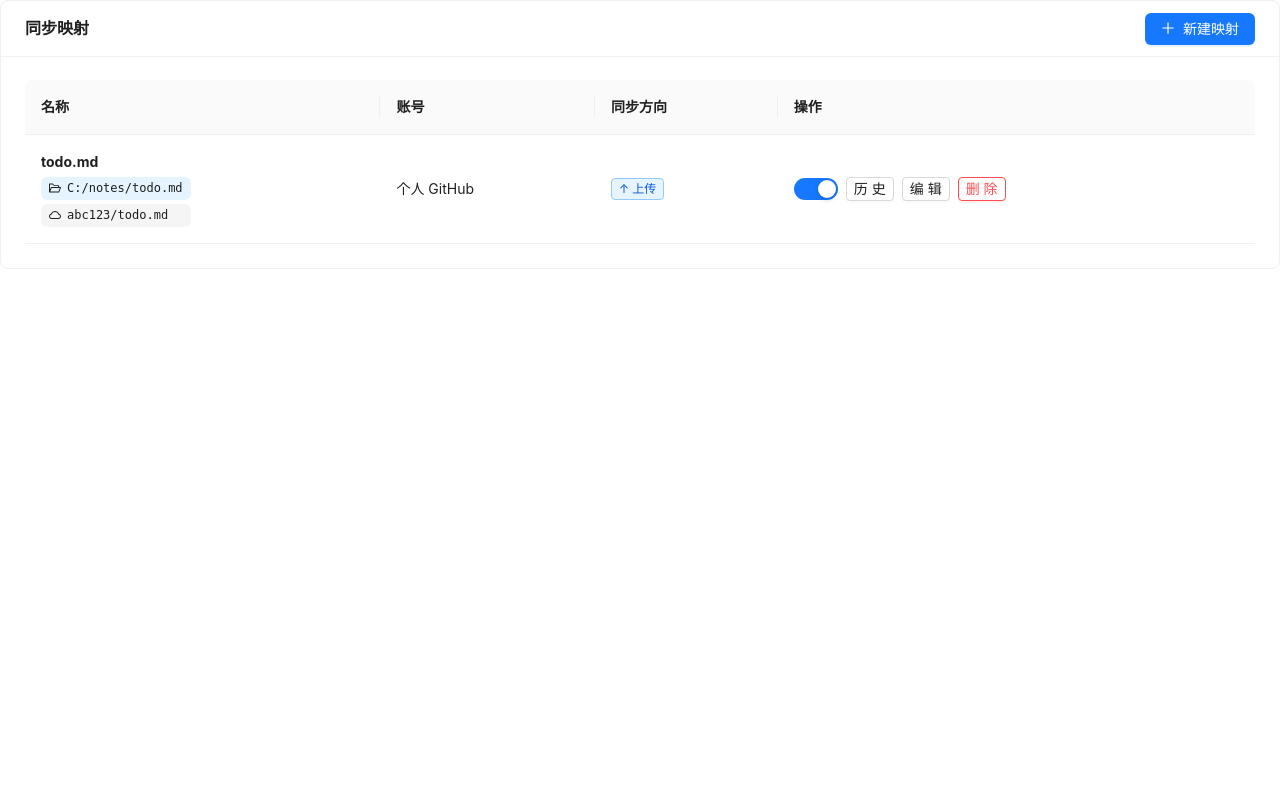
Mappings page › 选择账号后加载 gist 下拉，选项显示描述
Click the button "新建映射" at point(1200, 28), box [1145, 12, 1255, 44]
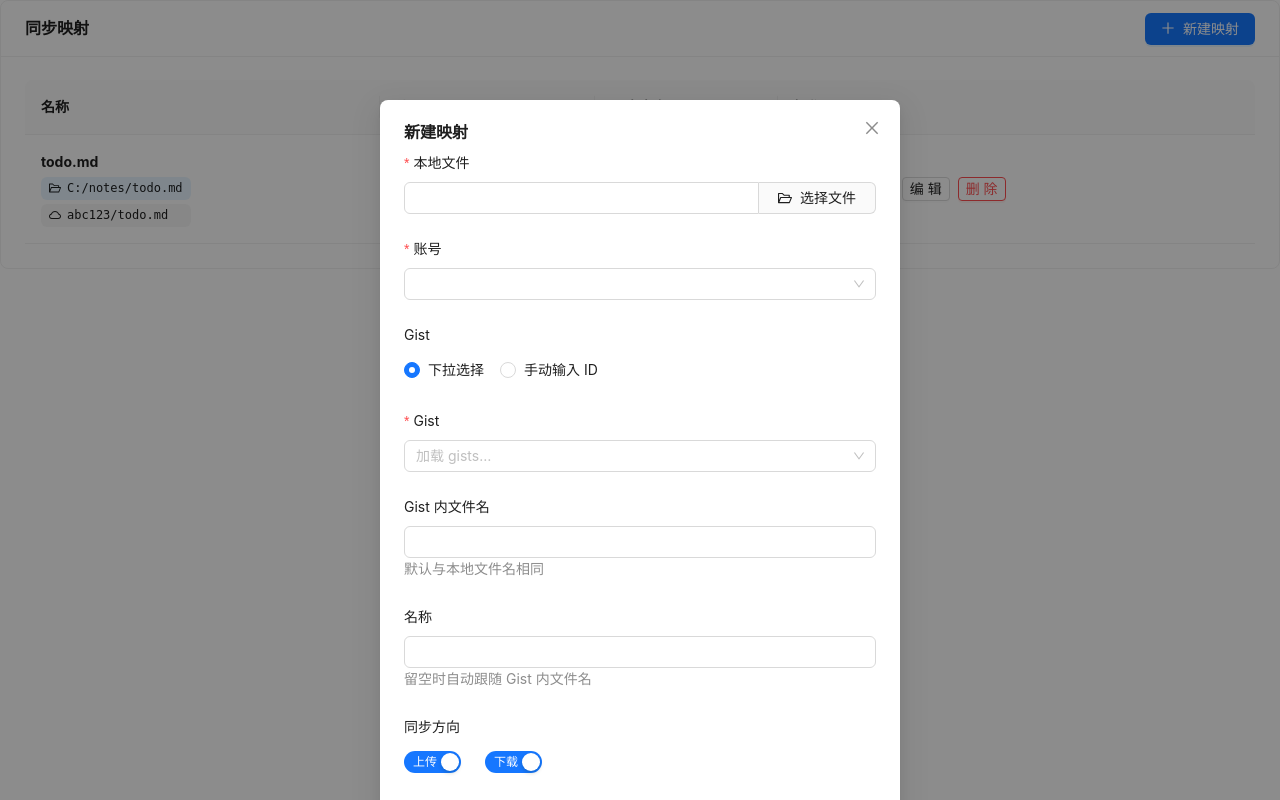
Click the dropdown labelled "账号" at point(631, 284), box [416, 269, 846, 299]
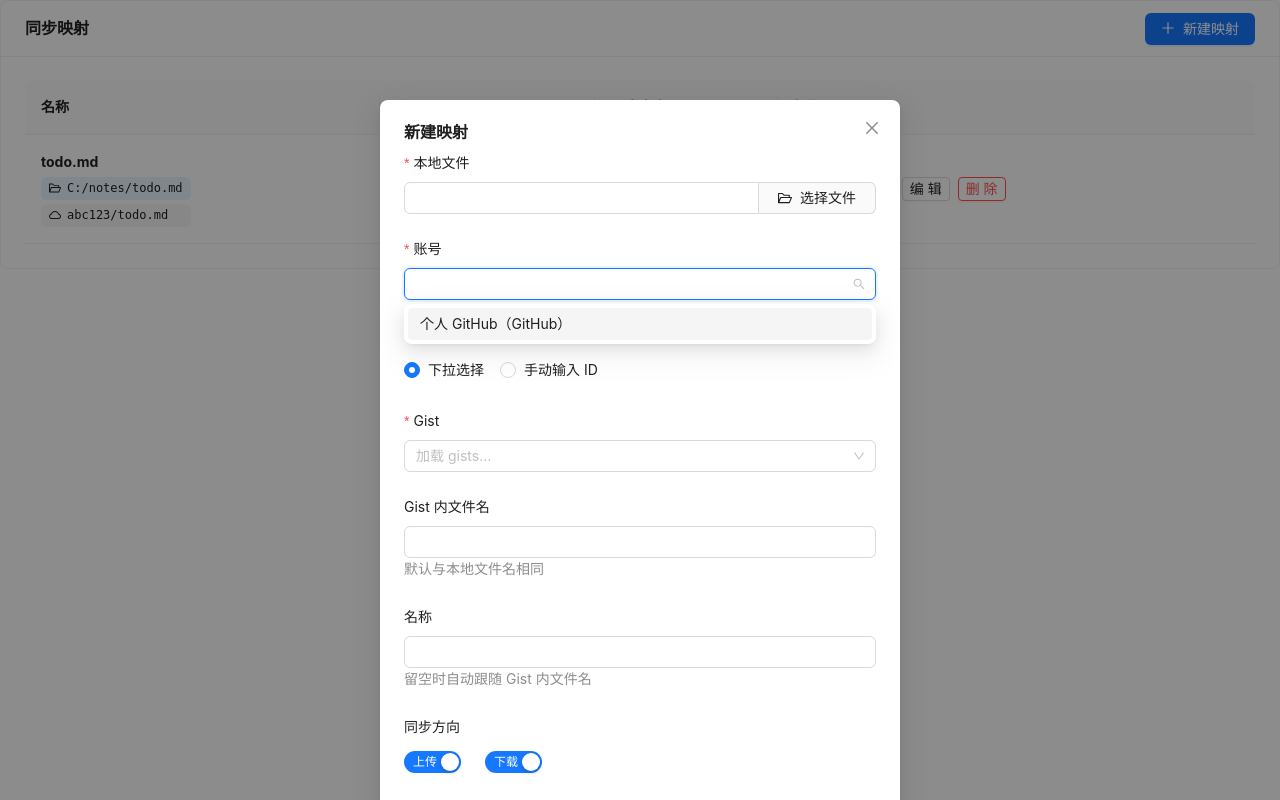
Click the text "个人 GitHub（GitHub）" at point(496, 324), box [420, 315, 571, 332]
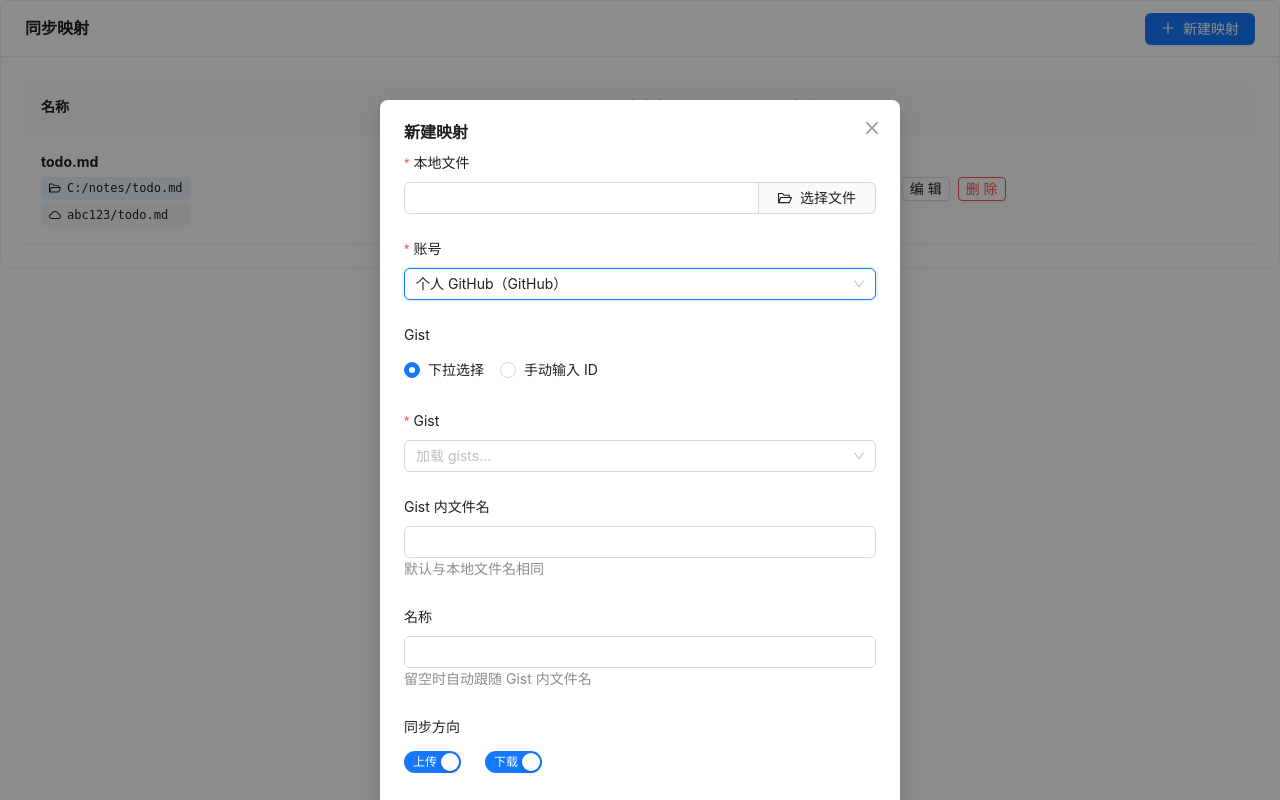
Click the dropdown labelled "Gist" at point(631, 456), box [416, 441, 846, 471]
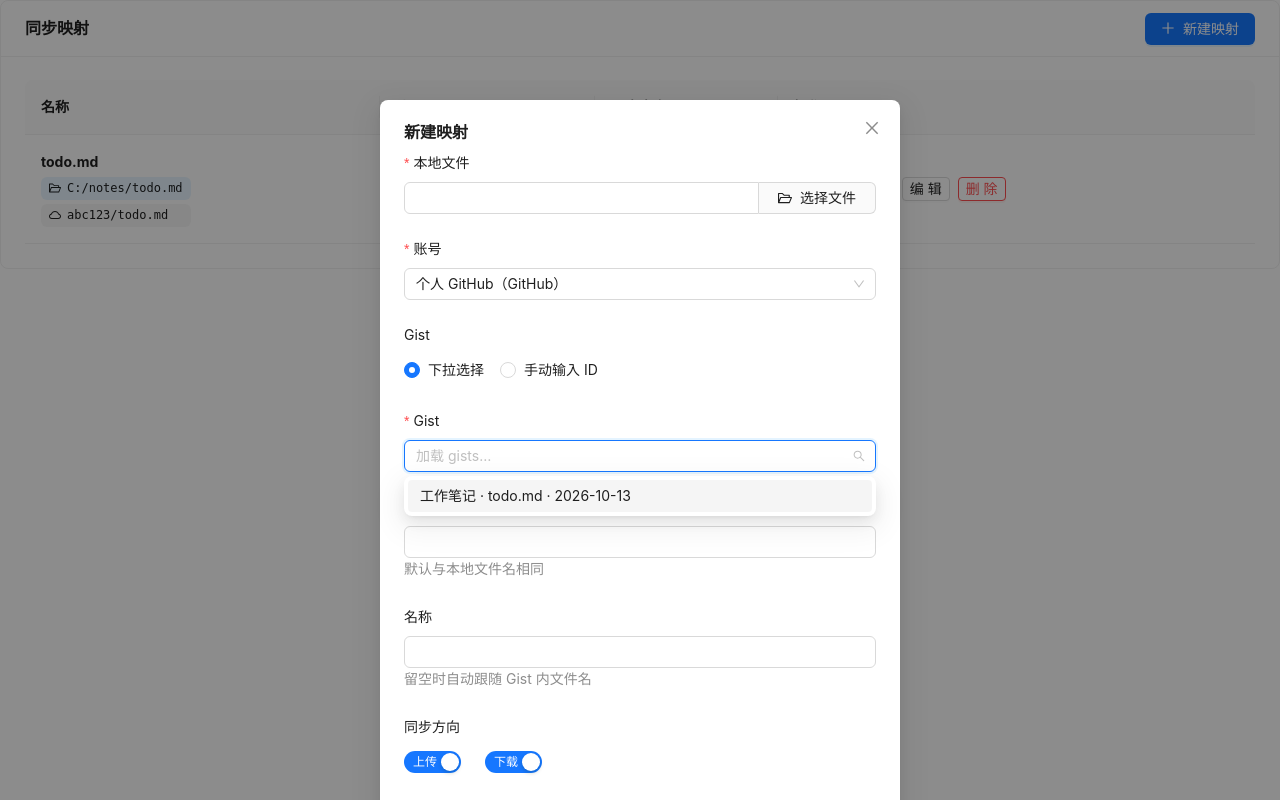
Expected: the text "工作笔记 · todo.md · 2026-10-13" is shown, [420, 487, 631, 504]
